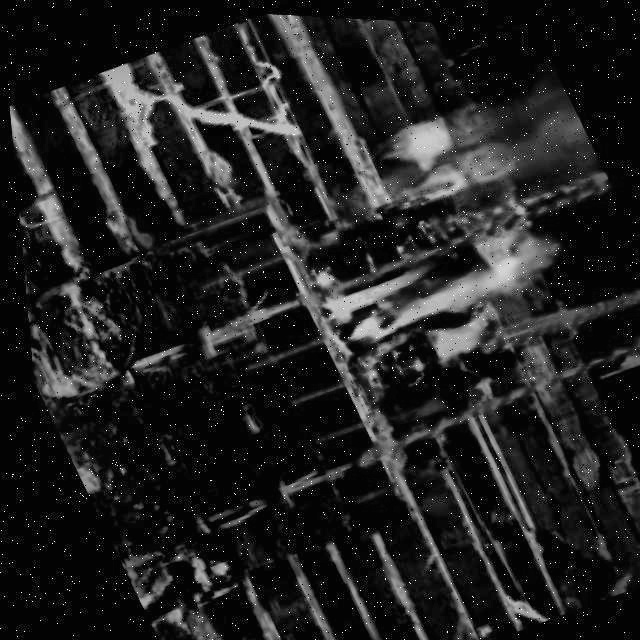Fire: (296, 204, 570, 399)
Smoke: (321, 54, 607, 255)
